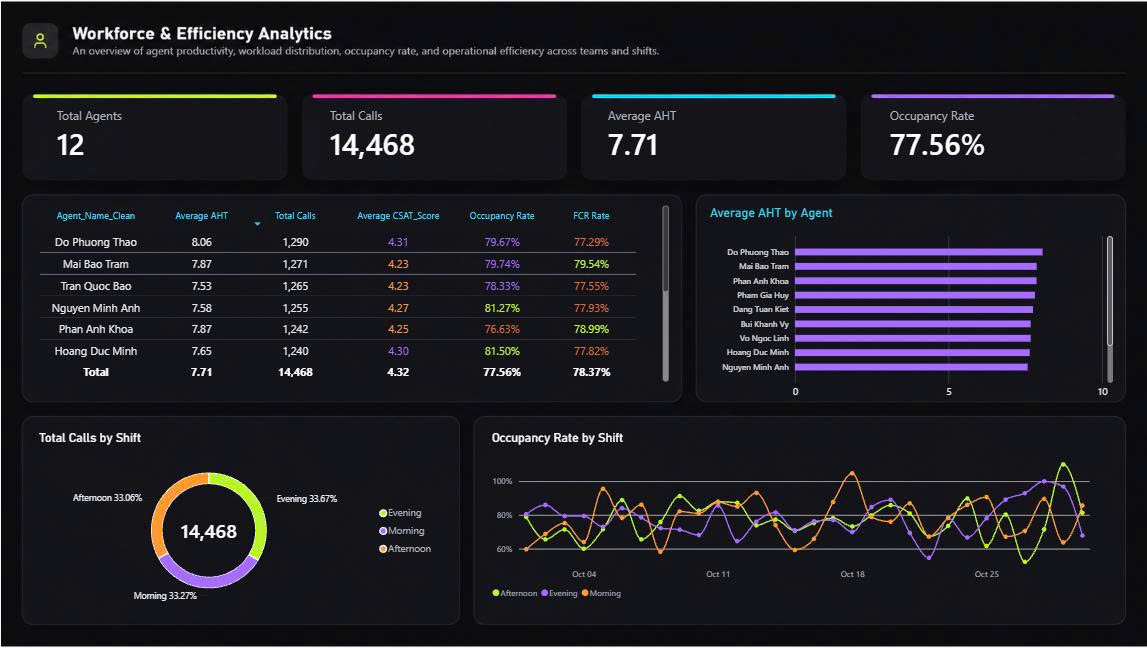

What the dashboard file says about the page in this screenshot:
{"tool":"powerbi","page":{"name":"Agent Performance","canvas":[1920,1080],"ordinal":1},"visuals":[{"type":"cardVisual","fields":{"Data":["DimAgent.Total Agents"]},"box":[190,198.3,265,98.3],"z":0},{"type":"cardVisual","fields":{"Data":["Callcenter.Total Calls"]},"box":[588.3,198.3,265,98.3],"z":1000},{"type":"cardVisual","fields":{"Data":["Callcenter.Average AHT"]},"box":[993.3,198.3,265,98.3],"z":2000},{"type":"cardVisual","fields":{"Data":["Callcenter.Occupancy Rate"]},"box":[1405,198.3,265,98.3],"z":3000},{"type":"tableEx","fields":{"Values":["DimAgent.Agent_Name_Clean","Callcenter.Average AHT","Callcenter.Total Calls","Callcenter.Average CSAT_Score","Callcenter.Occupancy Rate","Callcenter.FCR Rate"]},"box":[162.9,335.7,951.4,287.1],"z":4000},{"type":"clusteredBarChart","title":"Average AHT by Agent","fields":{"Category":["DimAgent.Agent_Name_Clean"],"Y":["Callcenter.Average AHT"]},"box":[1142.9,335.7,620,315.7],"z":5000},{"type":"donutChart","title":"Total Calls by Shift","fields":{"Category":["DimAgent.Shift_clean"],"Y":["Callcenter.Total Calls"]},"box":[162.9,664.3,612.9,284.3],"z":6000},{"type":"lineChart","title":"Occupancy Rate by Shift","fields":{"Category":["DimDate.Date"],"Series":["DimAgent.Shift_clean"],"Y":["Callcenter.Occupancy Rate"]},"box":[824.3,664.3,911.4,280],"z":7000}]}

Visuals, with their boxes in screenshot pixels (x1, y1, x2, y2), scaled from the page's 1920x1080 canvas onto the 1147x648 screenshot:
cardVisual - DimAgent.Total Agents: 114 119 272 178
cardVisual - Callcenter.Total Calls: 351 119 510 178
cardVisual - Callcenter.Average AHT: 593 119 752 178
cardVisual - Callcenter.Occupancy Rate: 839 119 998 178
tableEx - DimAgent.Agent_Name_Clean x Callcenter.Average AHT: 97 201 666 374
"Average AHT by Agent" clusteredBarChart: 683 201 1053 391
"Total Calls by Shift" donutChart: 97 399 463 569
"Occupancy Rate by Shift" lineChart: 492 399 1037 567
